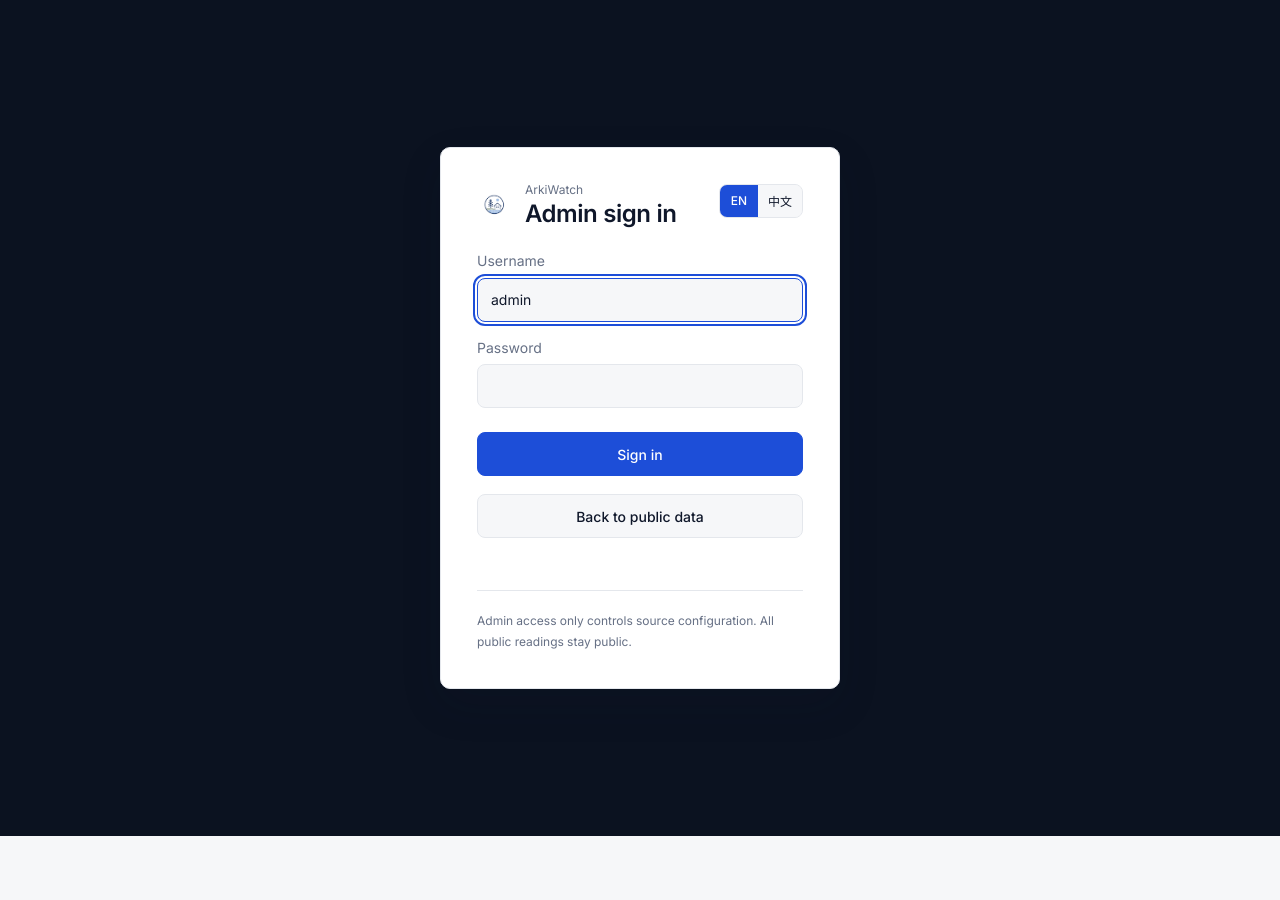
Scenario: LoginForm › does not expose backend authentication details
Type "secret" into the password field labelled "Password" at coordinates (640, 386), box [477, 364, 803, 408]
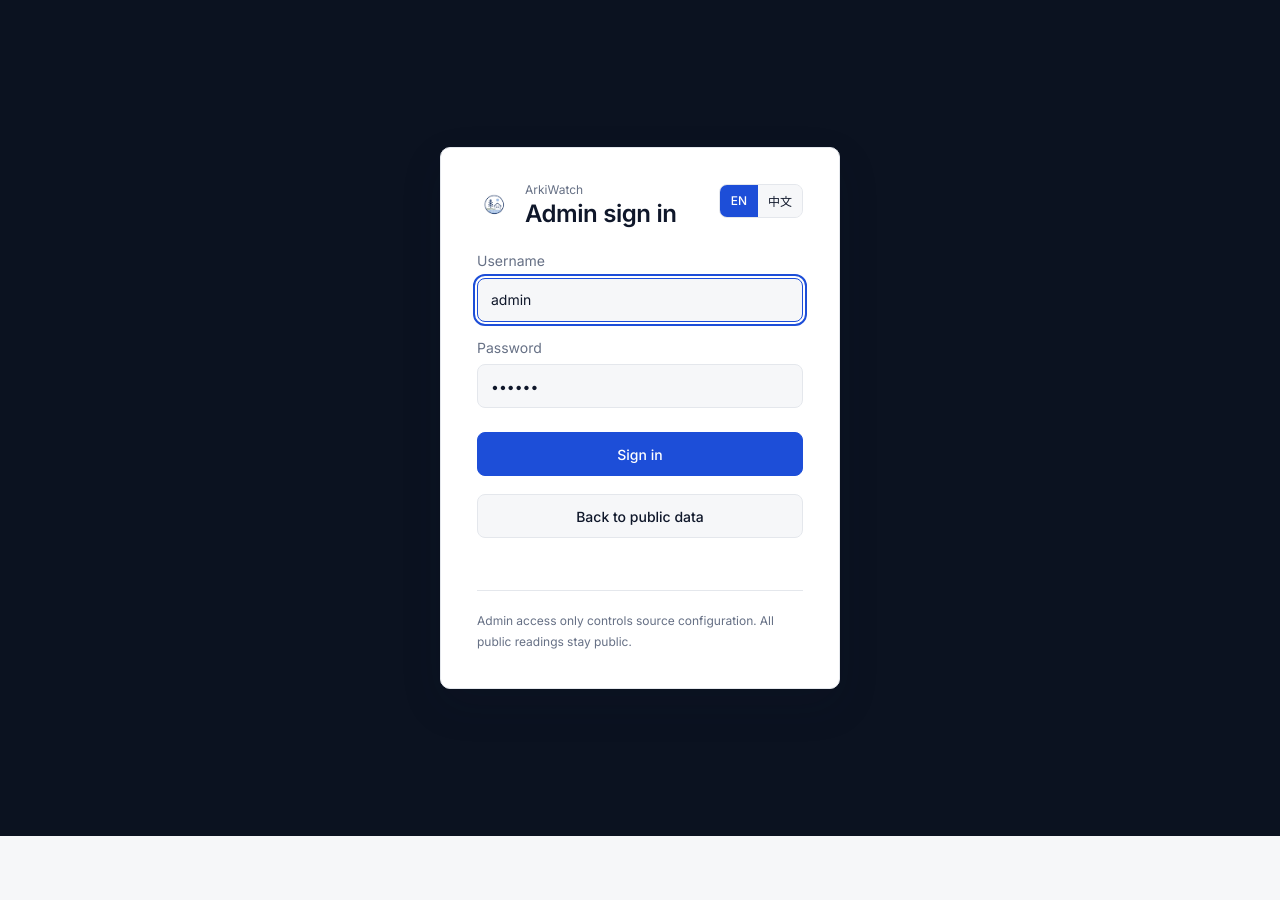
Submit the form "Sign in", box [477, 253, 803, 538]
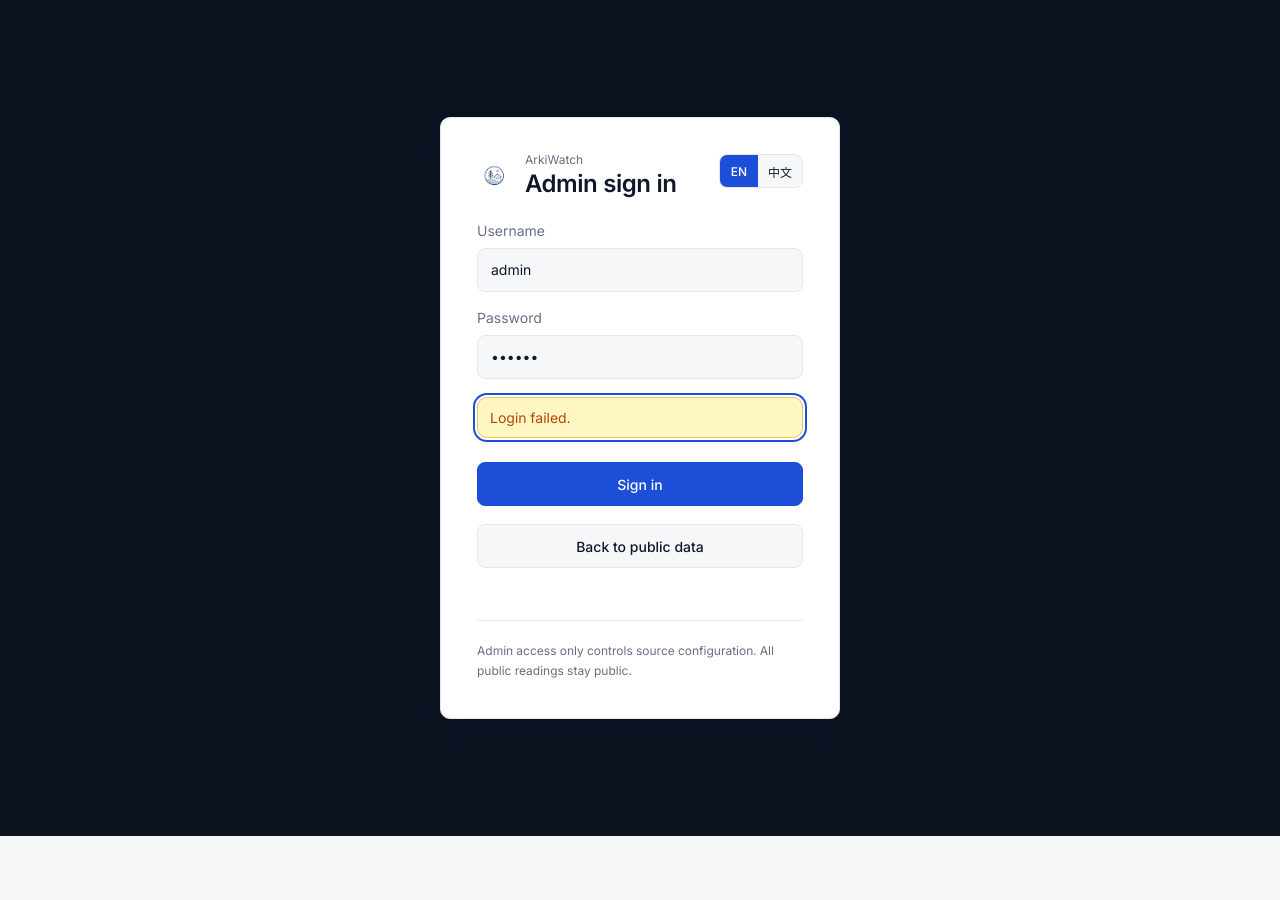
Expected: the message does not show "legacy-secret", [477, 396, 803, 438]
Now the message reads "Login failed.", box [490, 408, 570, 426]
